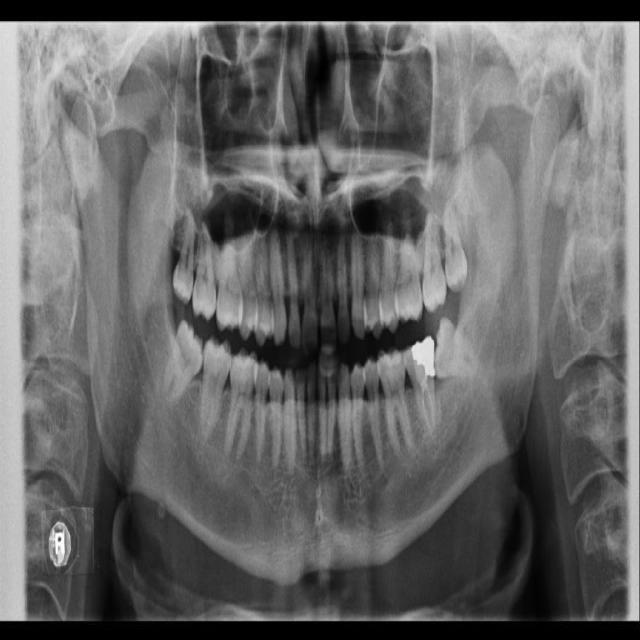3M ESPE Implant: (172, 209, 196, 304)
52: (399, 334, 446, 388)
73: (412, 379, 449, 438), (561, 510, 564, 514)
BioHorizons Implant: (422, 210, 447, 314)
BioLife Implant: (444, 198, 468, 292)
Biomet 3i Implant: (428, 312, 481, 379)
Blue Sky Bio Implant: (403, 335, 437, 437)
Caries: (187, 219, 218, 322)
Implant: (198, 333, 233, 447)
Keystone Dental Implant: (156, 318, 214, 408)
